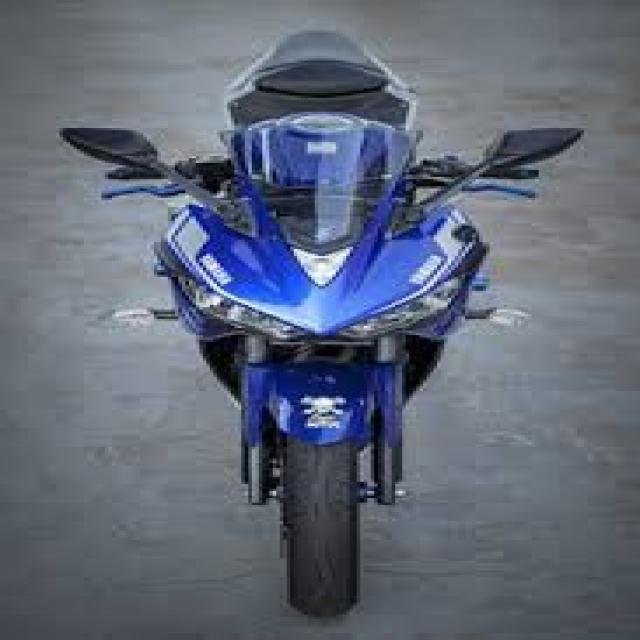Bike: (61, 30, 587, 618)
